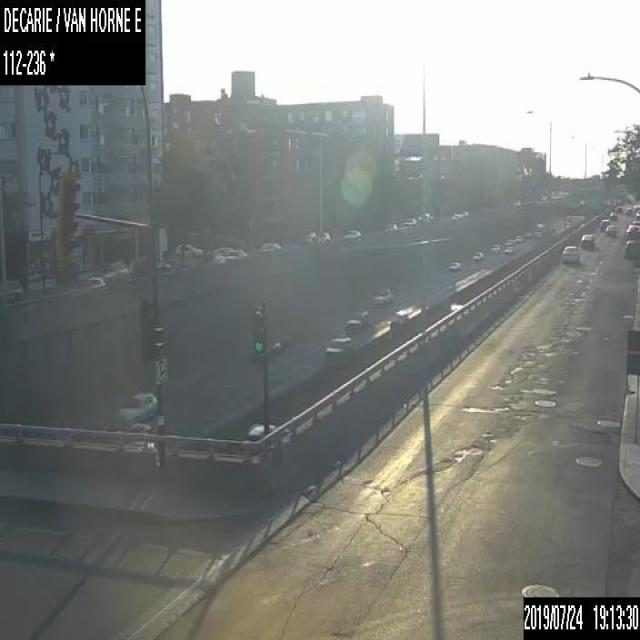vehicle: (116, 391, 156, 422), (252, 339, 282, 361), (325, 335, 352, 359), (117, 422, 151, 439), (0, 278, 24, 302), (97, 262, 128, 280), (343, 309, 368, 330), (246, 423, 276, 440), (74, 275, 104, 292), (370, 286, 392, 304), (306, 230, 329, 245), (175, 244, 202, 256), (561, 244, 578, 262), (255, 242, 280, 254), (624, 239, 639, 256), (340, 228, 361, 240), (624, 223, 639, 239), (225, 249, 248, 259), (580, 233, 594, 248), (533, 222, 545, 239), (452, 209, 468, 218), (604, 224, 616, 235), (599, 219, 609, 231), (471, 250, 483, 260), (448, 260, 460, 270), (490, 243, 501, 253), (631, 203, 639, 216), (402, 217, 415, 225), (503, 245, 515, 253), (513, 233, 521, 243), (503, 238, 512, 245), (624, 207, 632, 214), (631, 220, 639, 226), (610, 212, 616, 219), (635, 209, 639, 217)
